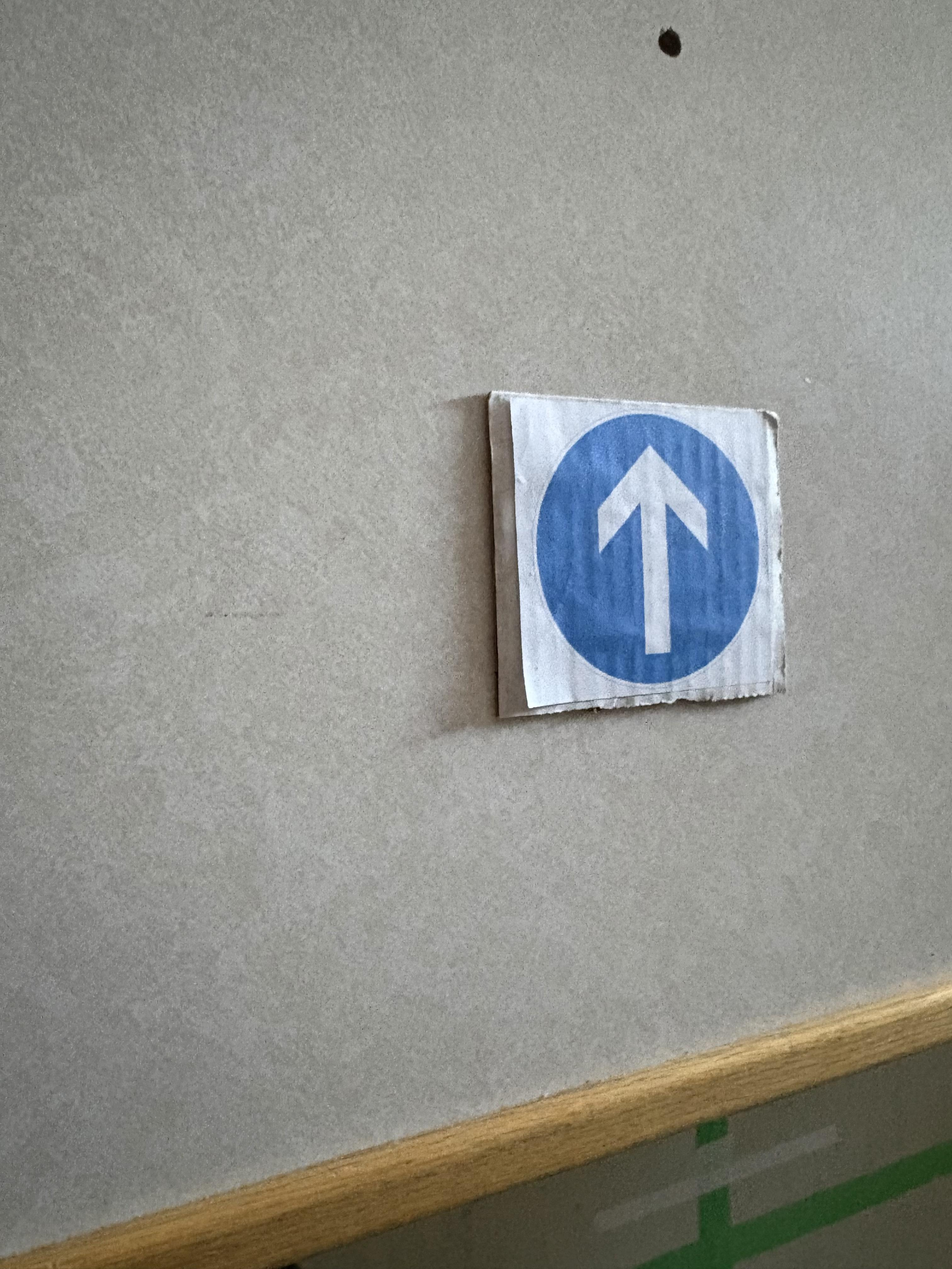Proceed Forward: (488, 393, 796, 724)
